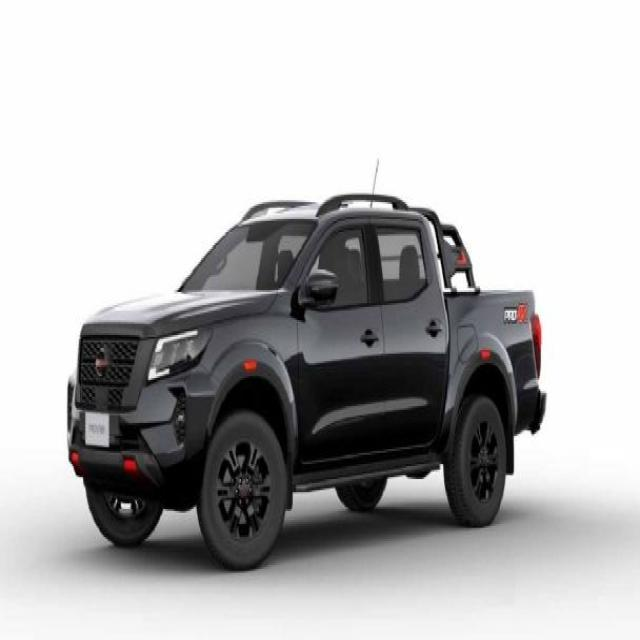CMT: (60, 196, 541, 574)
